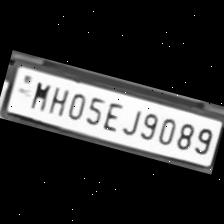0: (63, 86, 89, 121), (154, 112, 180, 146)
5: (82, 91, 107, 126)
8: (170, 118, 197, 152)
9: (189, 121, 217, 156), (135, 106, 161, 142)
E: (99, 96, 126, 132)
H: (44, 81, 70, 116)
J: (118, 101, 144, 137)
M: (26, 76, 54, 111)
